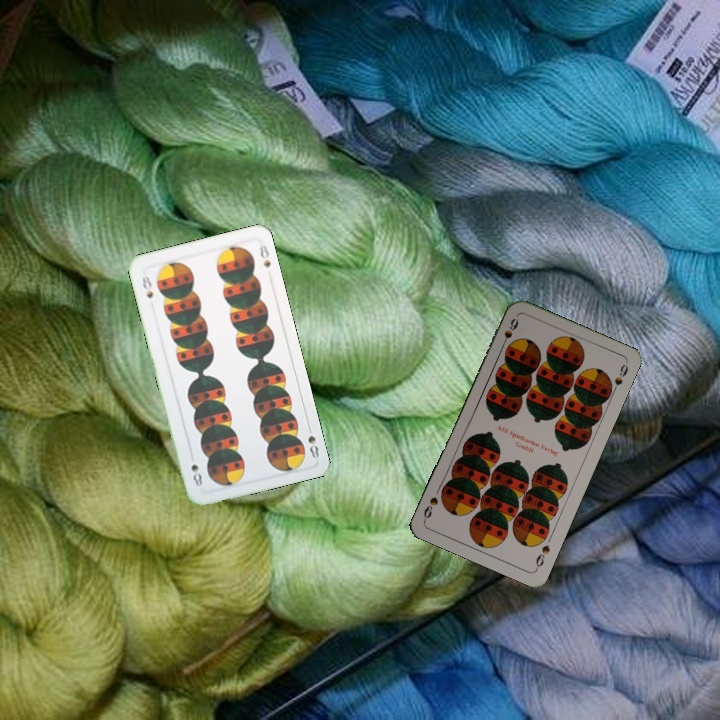S8: (304, 421, 322, 461), (137, 269, 156, 301)
S9: (497, 314, 521, 351), (532, 541, 553, 572)
